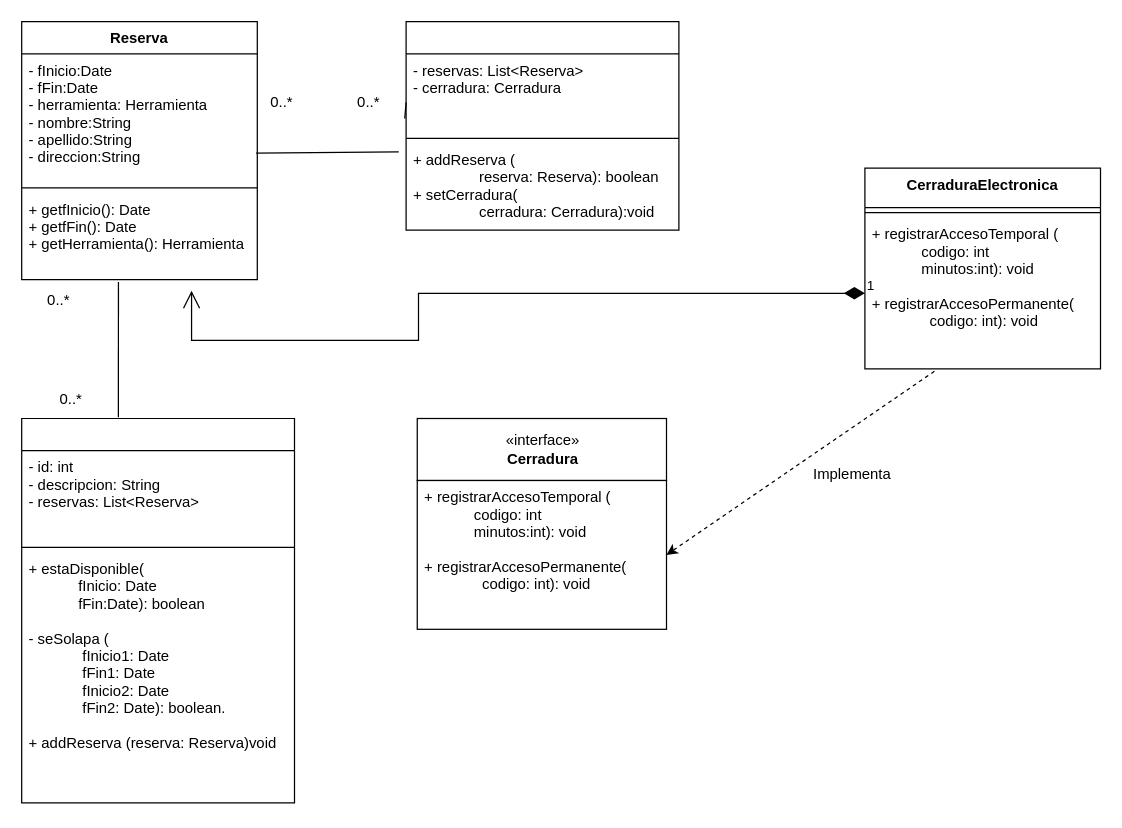
Image size: 1122x828. Some labels were removed from this diagram. The shapes that lost their labels are listed below. From the top down, each one's box as (x1, y1, x2, y2) in pixels, then its label:
(405, 20, 679, 230): Calendario
(20, 417, 294, 803): Herramienta
